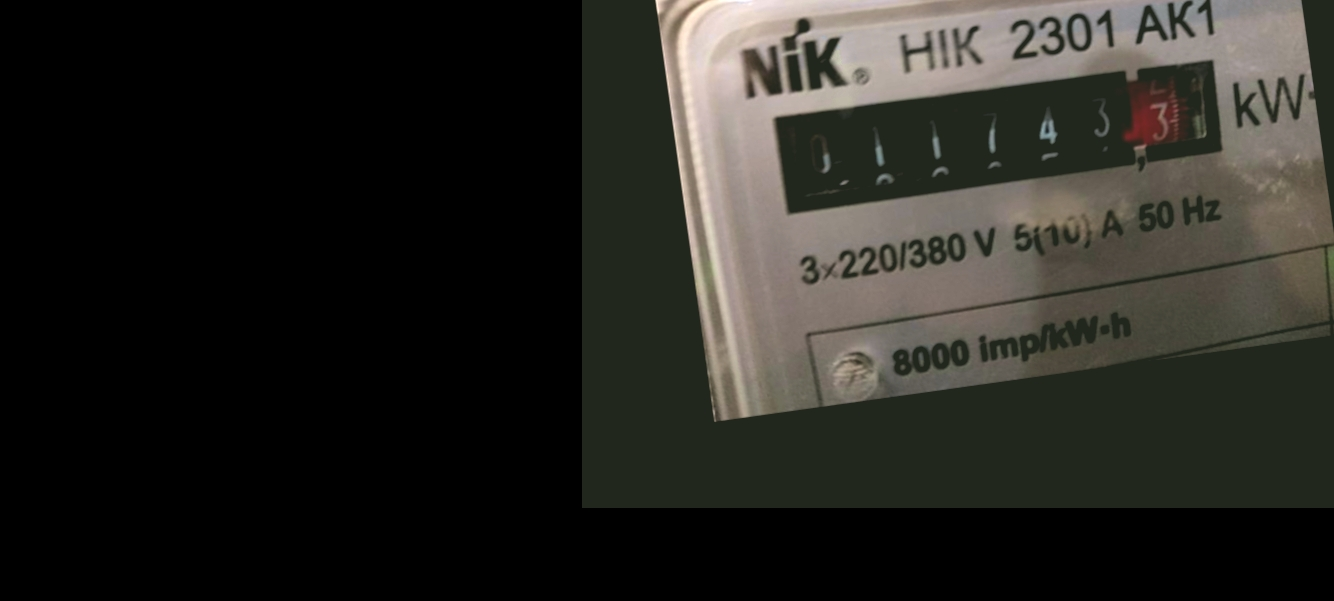0: (802, 127, 838, 177)
1: (921, 112, 949, 163), (867, 120, 890, 170)
3: (1084, 91, 1118, 141), (1145, 97, 1175, 144)
4: (1030, 97, 1065, 148)
7: (977, 106, 1008, 157)
screen: (757, 44, 1235, 226)
